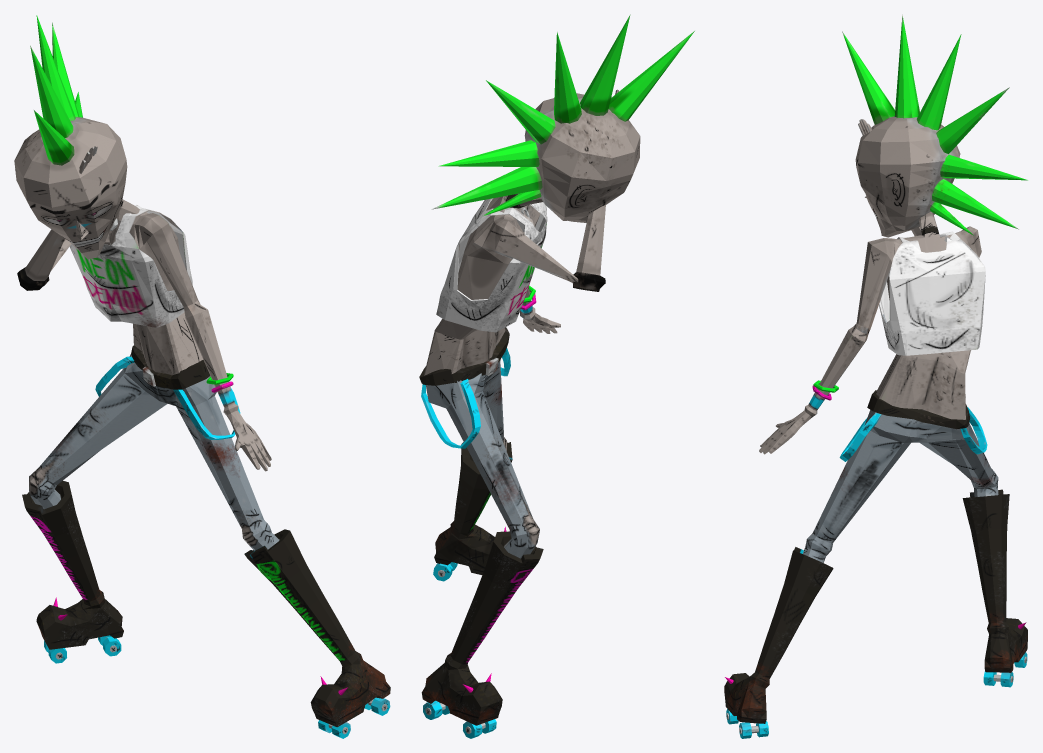
File: punkAnimation_000040.obj
3 views of the same model, side by side, from view 1: azimuth 30°, elevation 25°; view 2: azimuth 150°, elevation 25°; view 3: azimuth 270°, elevation 25° (orthographic). The views are drawn at different scales.
Parts seen in each view (by area): view 1: Cube.004_Cube.003; view 2: Cube.004_Cube.003; view 3: Cube.004_Cube.003.
Part boxes in pixels (x1,y1,x2,y2): Cube.004_Cube.003: (14, 15, 390, 738); Cube.004_Cube.003: (419, 14, 694, 738); Cube.004_Cube.003: (724, 14, 1027, 738).
Size of the model in its own units: 3.14 by 6.72 by 3.02.
